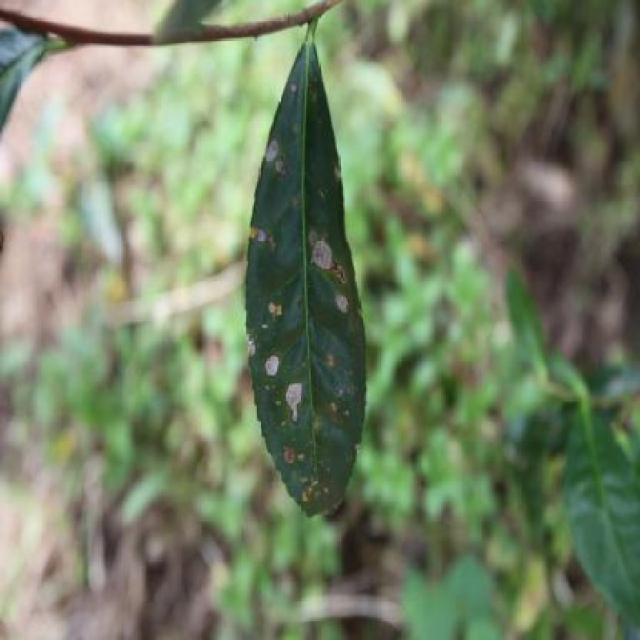Leaf rust of tea: (246, 44, 374, 542)
